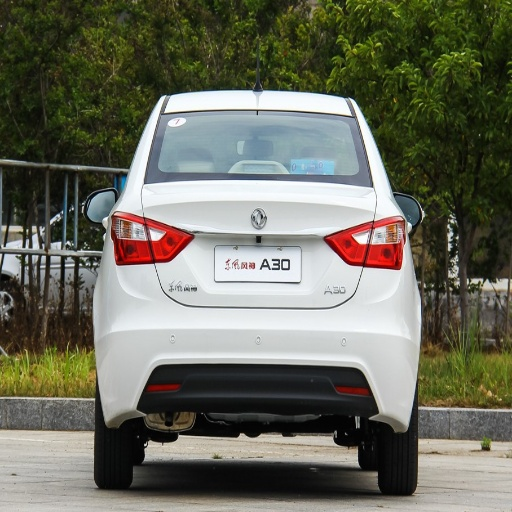back_bumper: (94, 265, 422, 426)
tailgate: (148, 184, 374, 309)
trunk: (119, 183, 221, 304)
